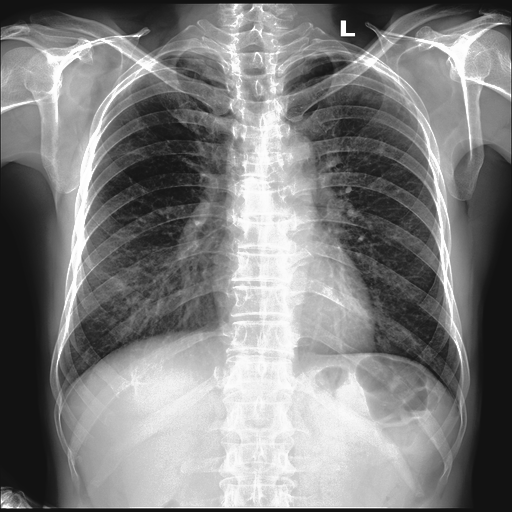Calcification: (157, 47, 222, 72), (280, 50, 352, 66)
Cardiomegaly: (63, 135, 199, 369), (336, 165, 460, 366)
